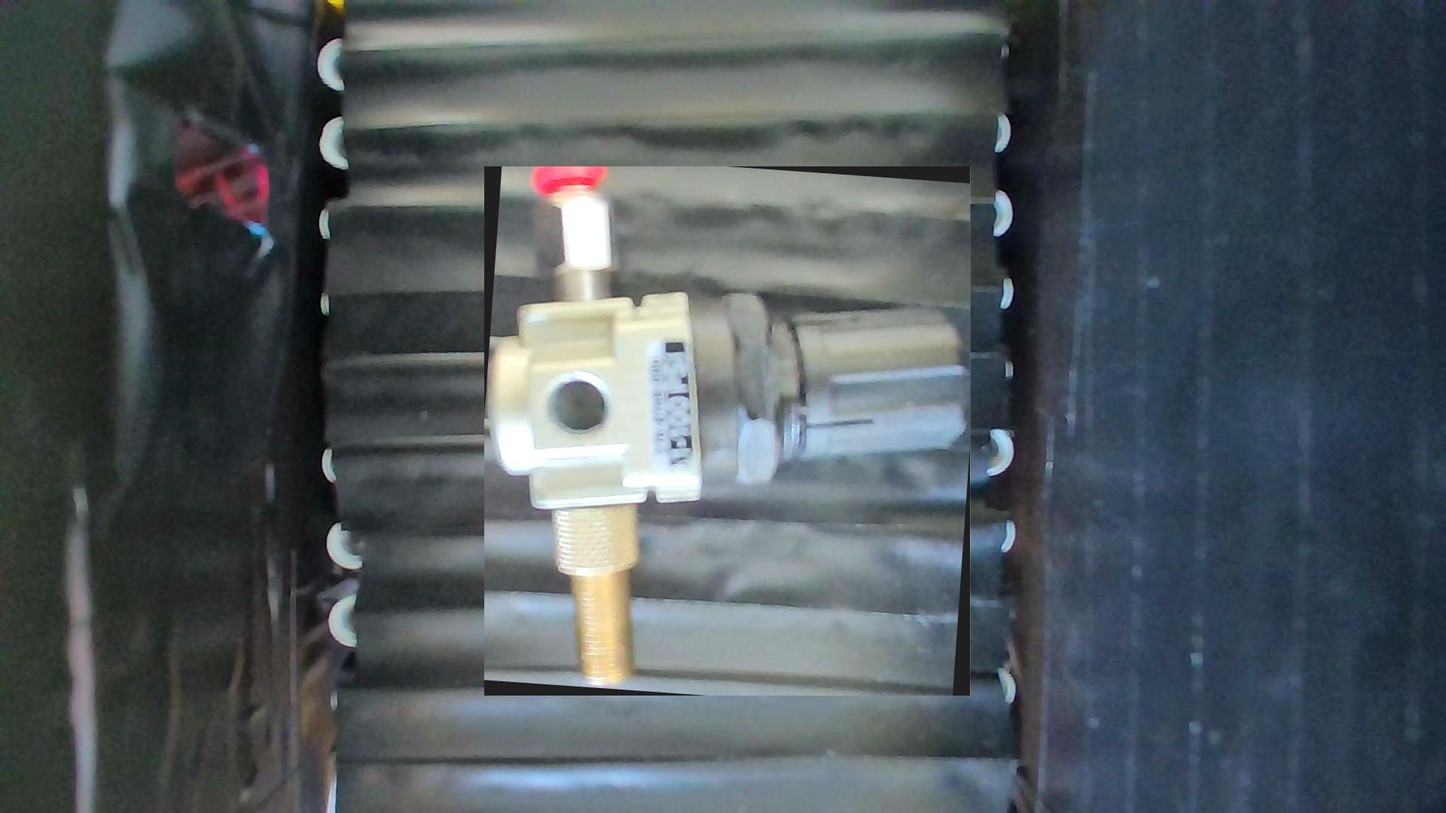regulator: (485, 166, 971, 696)
